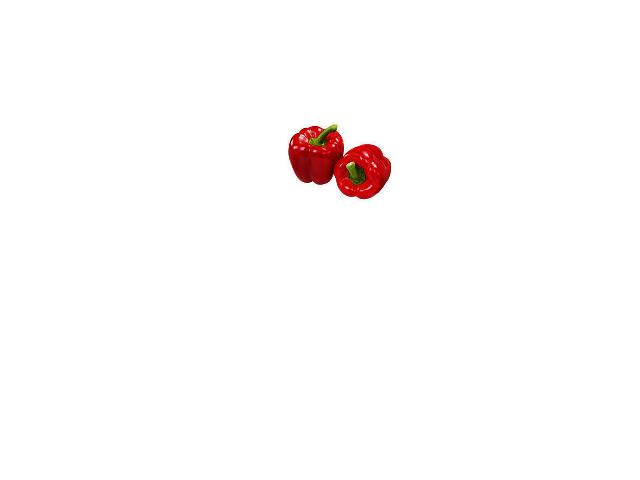bell_pepper: (286, 122, 345, 189)
